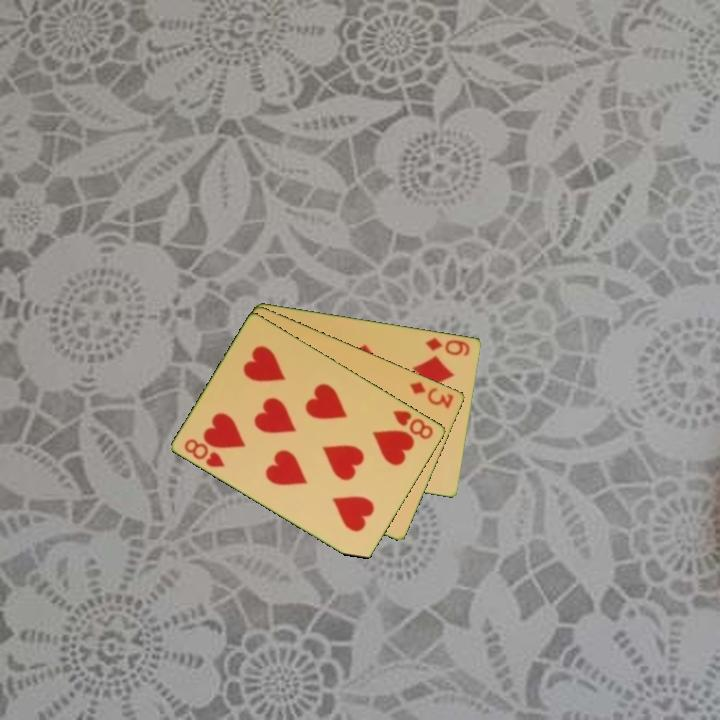3d: (406, 378, 457, 411)
6d: (422, 334, 473, 359)
8h: (389, 406, 437, 443), (181, 435, 229, 470)
